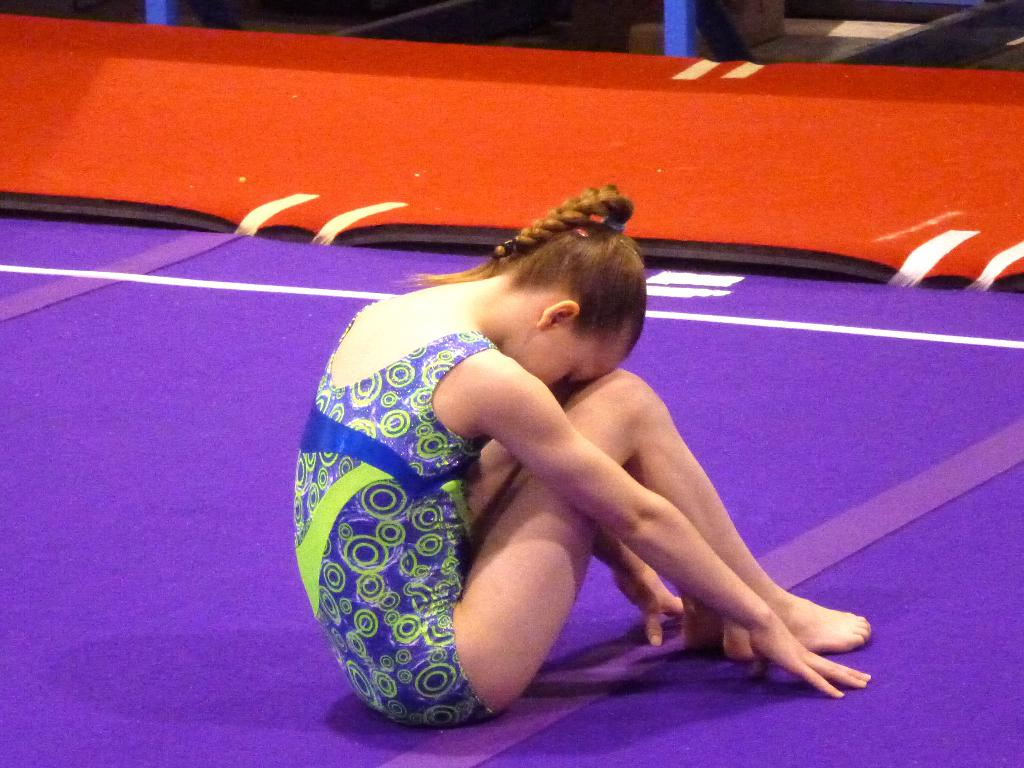Human_hand: (632, 568, 881, 697), (611, 547, 689, 647)
